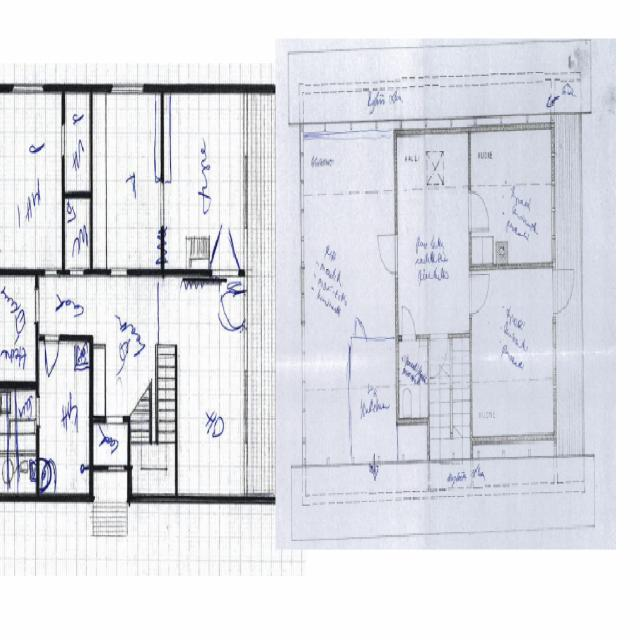door: (552, 272, 576, 316), (226, 290, 247, 332), (430, 336, 448, 382), (378, 234, 398, 274), (470, 276, 490, 314), (470, 193, 489, 230), (44, 336, 60, 378), (210, 234, 225, 276), (225, 234, 240, 276), (402, 303, 416, 342), (355, 308, 367, 342)
